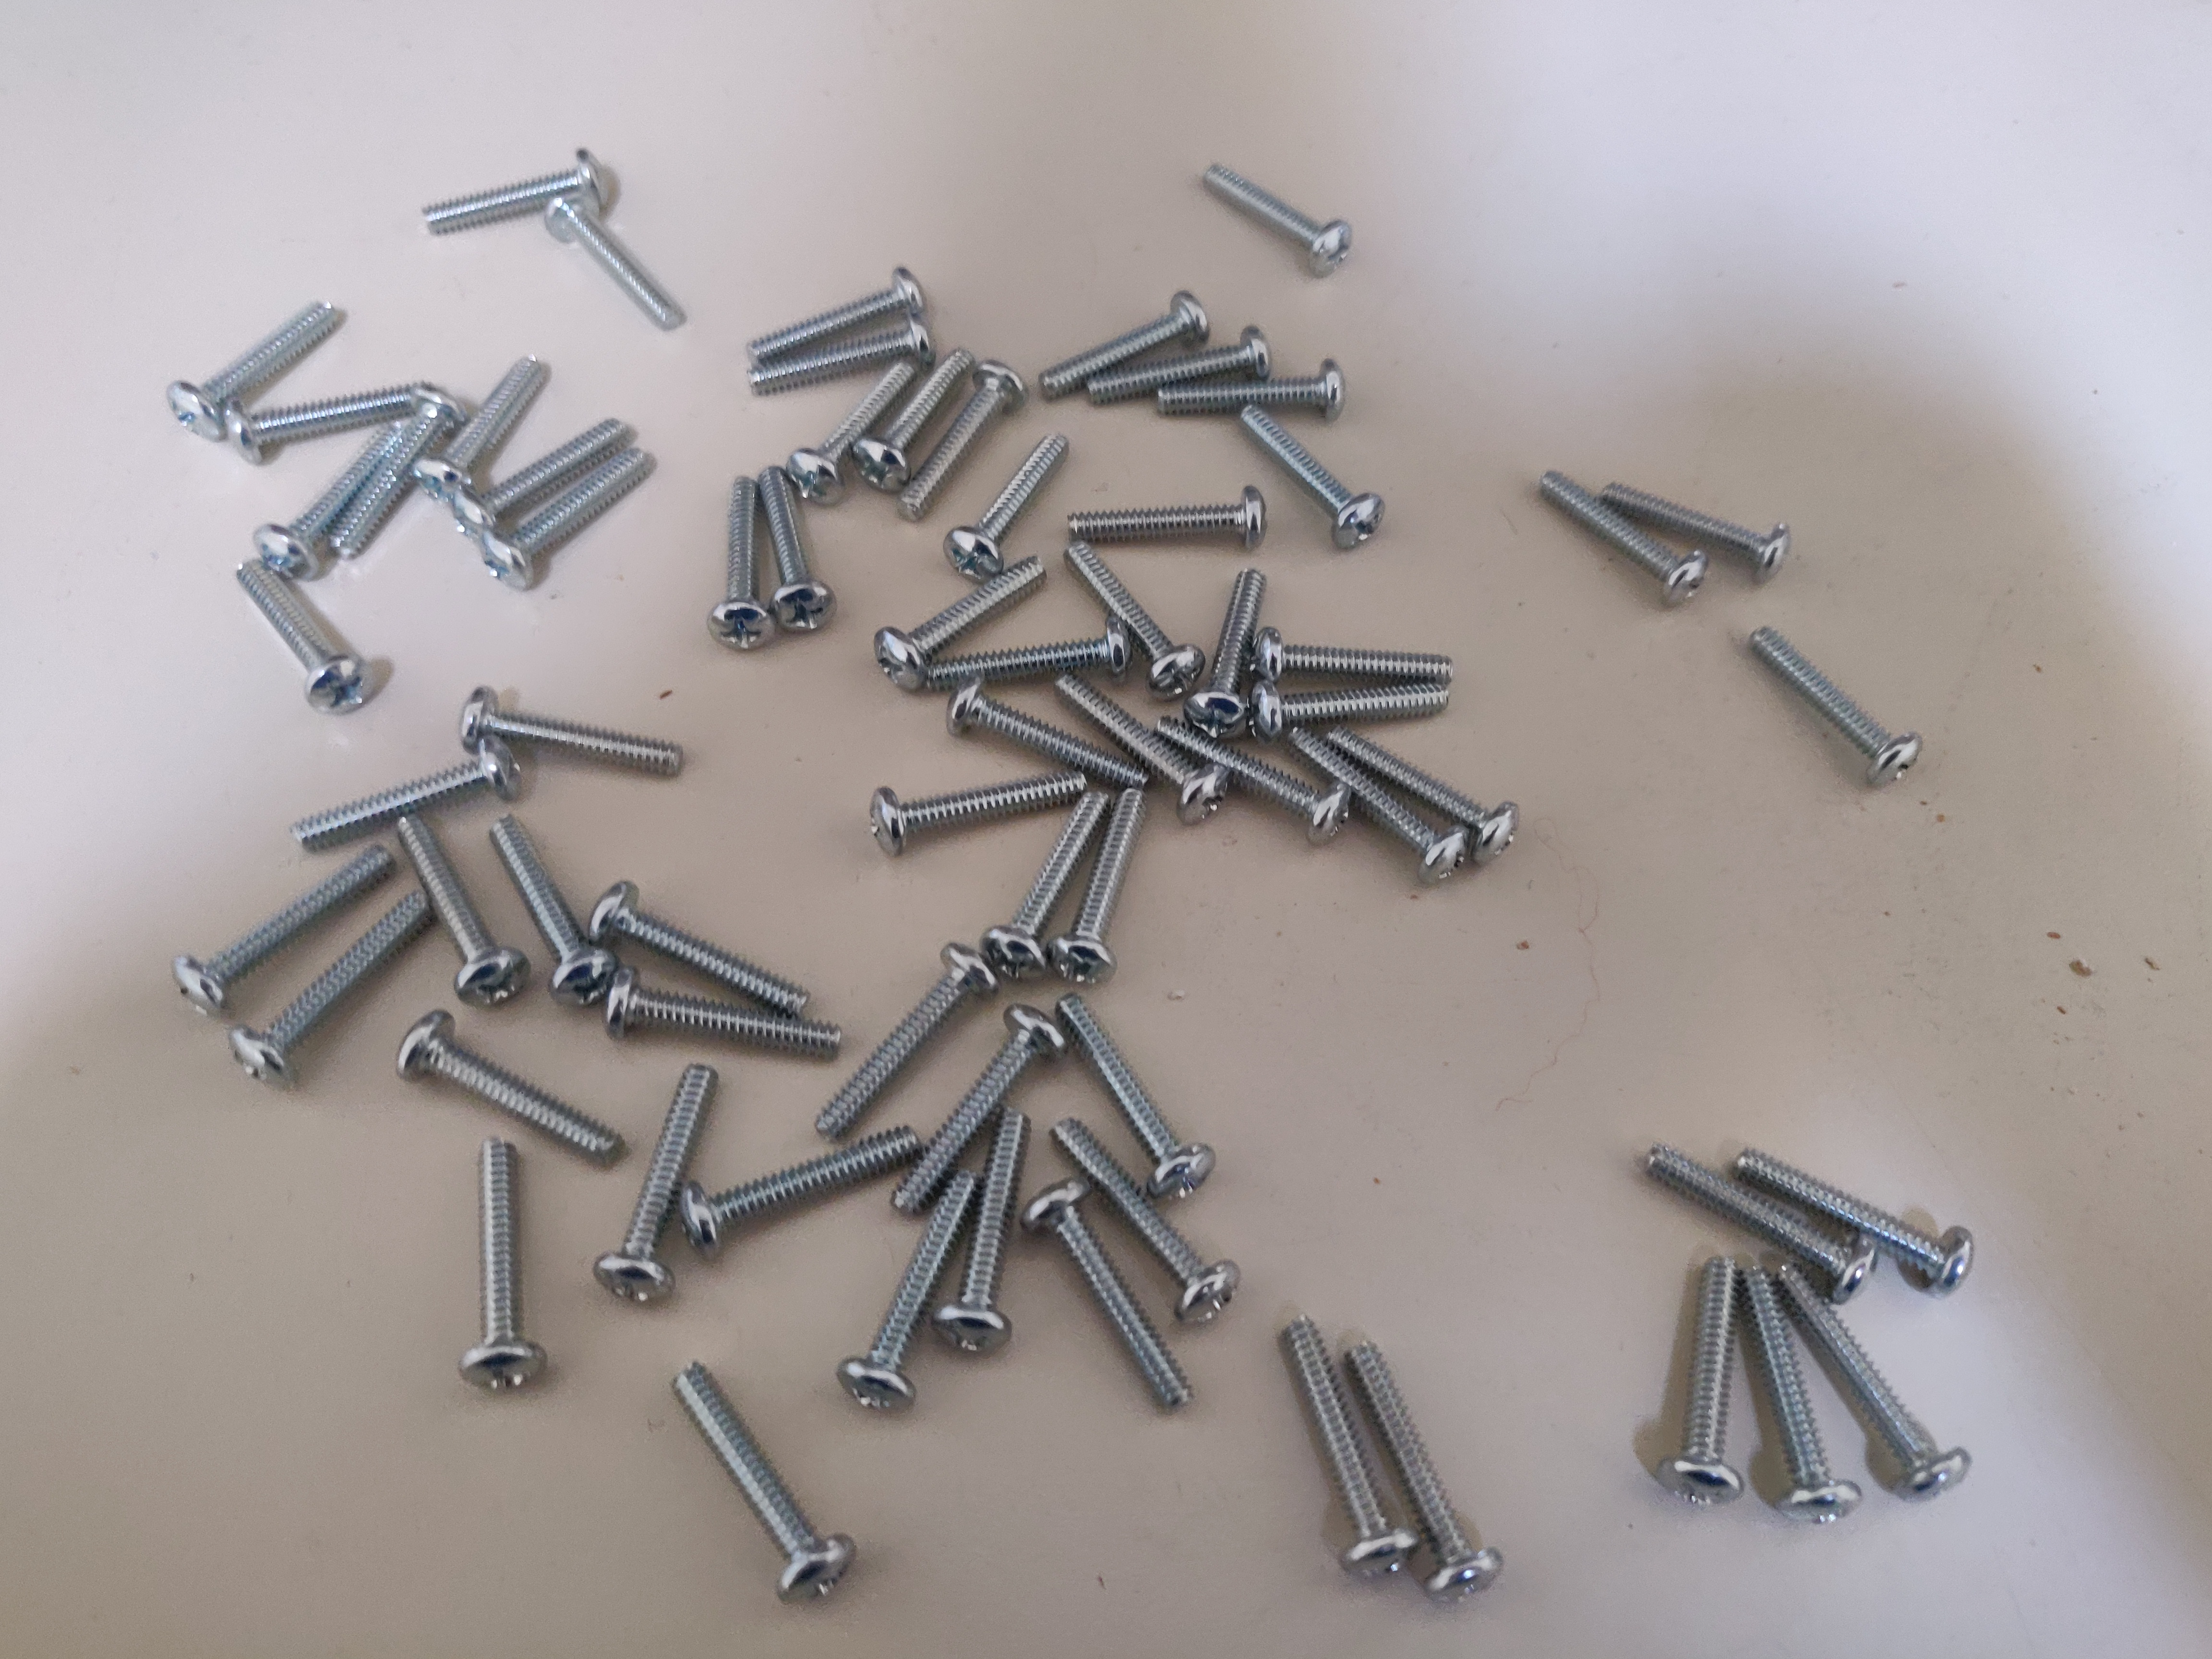longscrew: (1045, 1115, 1244, 1337), (1033, 1183, 1205, 1427), (178, 824, 394, 1018), (1784, 1267, 1961, 1500), (657, 1378, 840, 1596), (387, 1006, 627, 1171), (1047, 986, 1217, 1208), (1266, 1310, 1404, 1577), (1357, 1323, 1494, 1589), (237, 887, 430, 1072), (1649, 1138, 1876, 1295), (1745, 1129, 1972, 1286), (597, 1056, 737, 1305), (890, 1006, 1054, 1204), (841, 1168, 968, 1412), (1273, 725, 1463, 885), (1747, 620, 1930, 786), (1329, 718, 1517, 878), (824, 943, 981, 1134), (596, 870, 815, 1006), (685, 1122, 918, 1249), (293, 734, 531, 850), (1150, 697, 1338, 838), (392, 814, 524, 1006), (477, 453, 658, 587), (1754, 1269, 1848, 1525), (484, 816, 604, 1016), (1655, 1258, 1747, 1514), (172, 291, 326, 441), (251, 413, 390, 573), (977, 796, 1103, 972), (866, 556, 1042, 680), (1064, 669, 1214, 814), (1547, 472, 1703, 610), (1197, 159, 1376, 279), (465, 1126, 542, 1405), (449, 420, 637, 533), (953, 681, 1144, 789), (413, 349, 543, 504), (585, 972, 838, 1053), (465, 694, 691, 782), (226, 565, 368, 706), (338, 383, 449, 561), (1585, 477, 1797, 570), (1238, 408, 1381, 544), (789, 352, 923, 497), (852, 340, 986, 484), (949, 430, 1083, 575), (895, 359, 1029, 502), (744, 260, 939, 357), (747, 308, 942, 406), (1066, 540, 1190, 690), (956, 1107, 1026, 1368), (866, 770, 1104, 845), (1055, 798, 1146, 986), (1092, 314, 1280, 404), (218, 375, 434, 453), (1036, 295, 1198, 392), (545, 202, 676, 322), (420, 157, 592, 232), (709, 479, 775, 669), (761, 462, 827, 652), (1202, 554, 1268, 734), (1148, 364, 1353, 416), (914, 638, 1132, 687), (1247, 681, 1468, 727), (1247, 636, 1468, 681), (1054, 497, 1289, 537)
